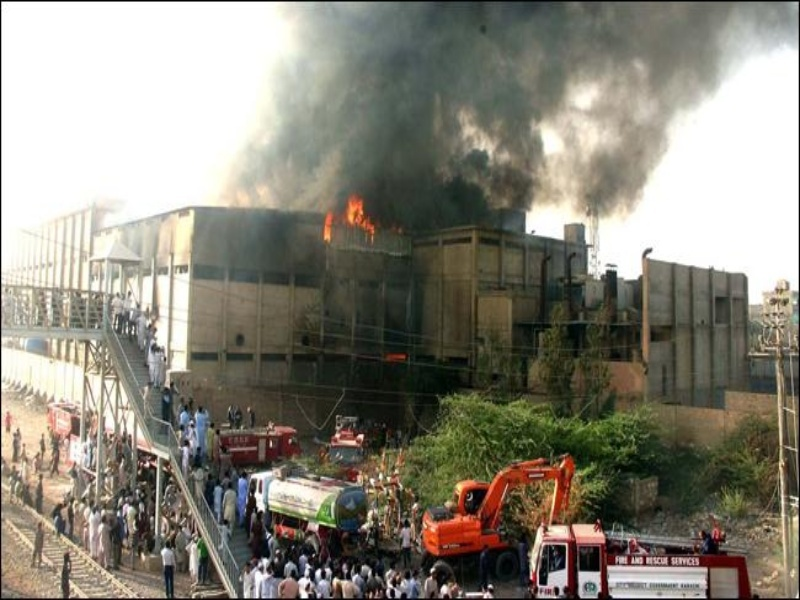smoke: (273, 1, 646, 209)
